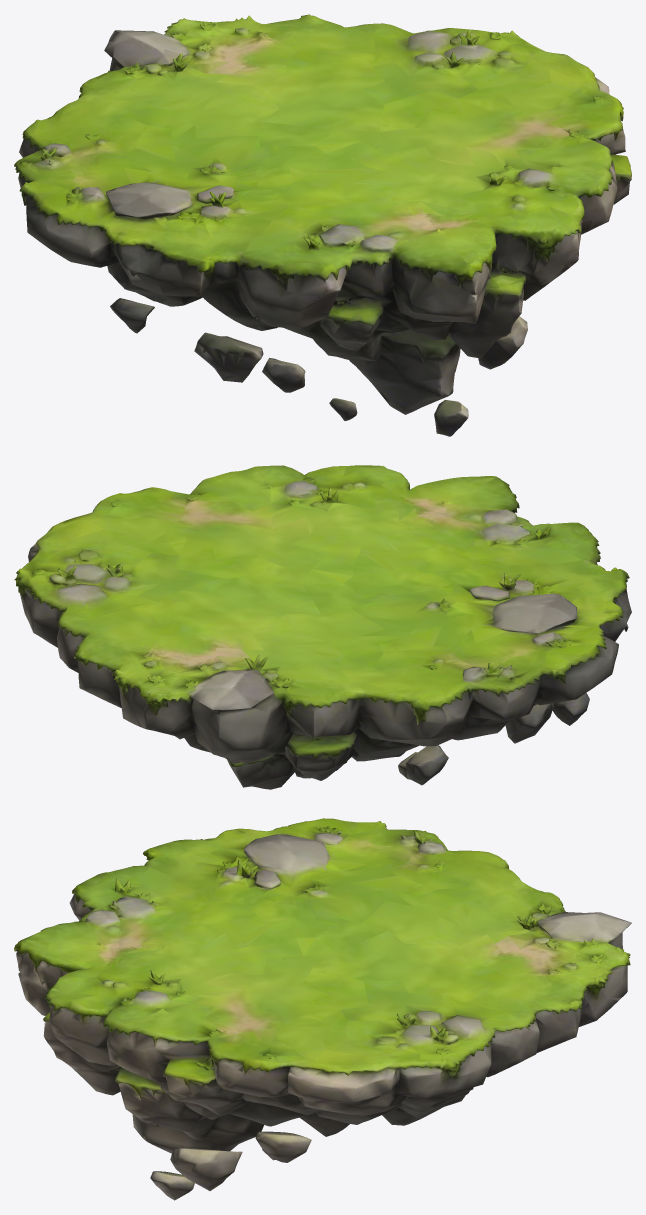
File: Island_Meadow.fbx
The picture shows the model from 3 angles, top to bottom: view 1: azimuth 30°, elevation 25°; view 2: azimuth 150°, elevation 25°; view 3: azimuth 270°, elevation 25°; orthographic projection. The views are drawn at different scales.
Parts seen in each view (by area): view 1: Island_Meadow; view 2: Island_Meadow; view 3: Island_Meadow.
Boxes of the visible parts, box(x1,y1,x2,y2) form: Island_Meadow: box(14, 14, 631, 436); Island_Meadow: box(14, 465, 631, 789); Island_Meadow: box(14, 818, 631, 1200).
Size of the model in its own units: 900 by 400 by 900.
Materials: 1 (1 with a texture image).
